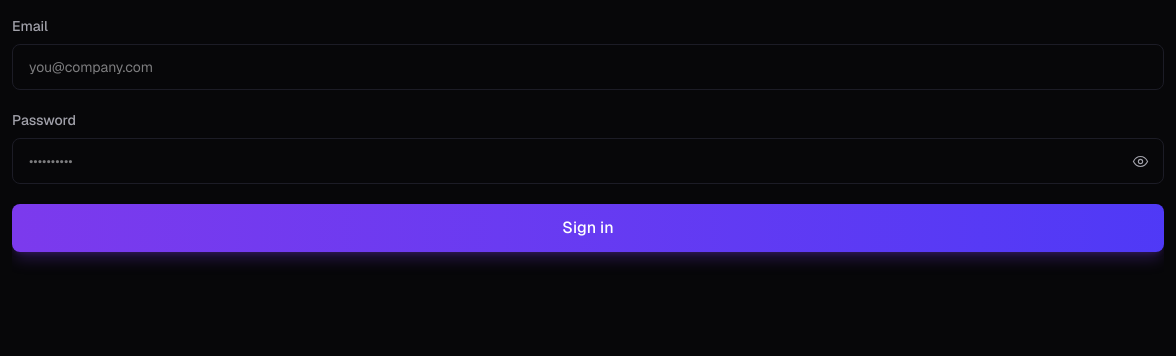
it: LoginForm › announces a failed login via an alert
The width and height of the screenshot is (1176, 356).
In the field labelled "Email": (588, 67) left=12, top=44, right=1164, bottom=90, type "a@b.test"
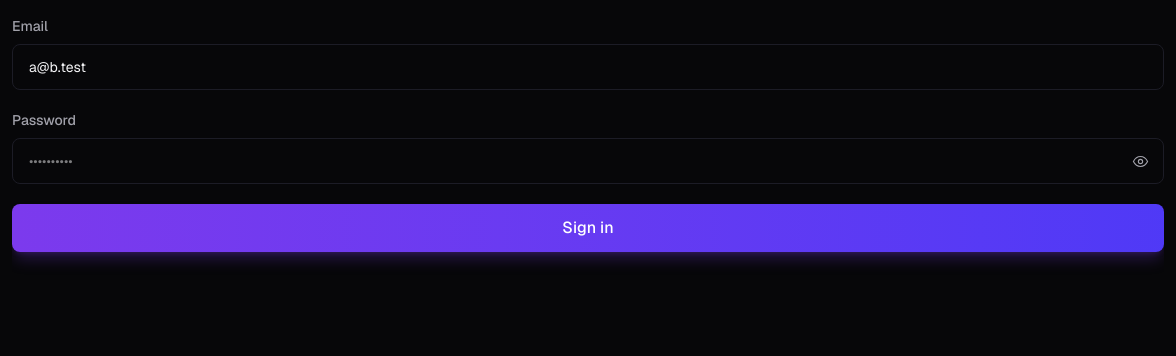
In the password field labelled "Password": (588, 161) left=12, top=138, right=1164, bottom=184, type "secret"
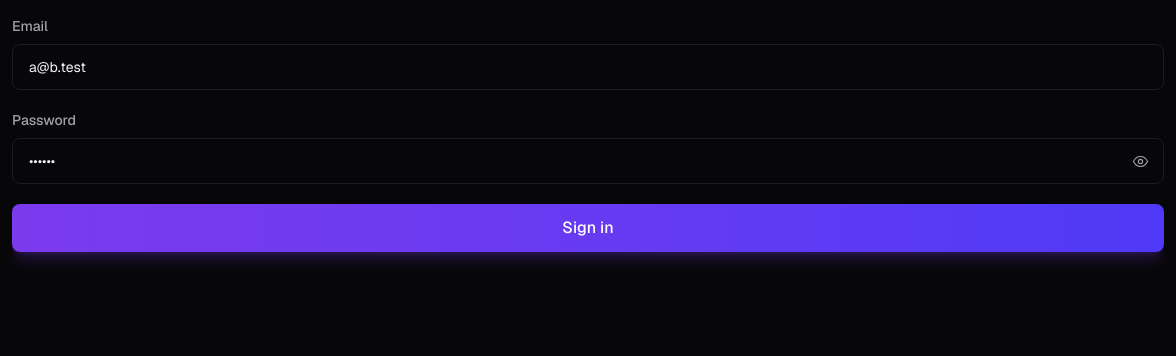
Click the button "Sign in": (588, 228) left=12, top=204, right=1164, bottom=252
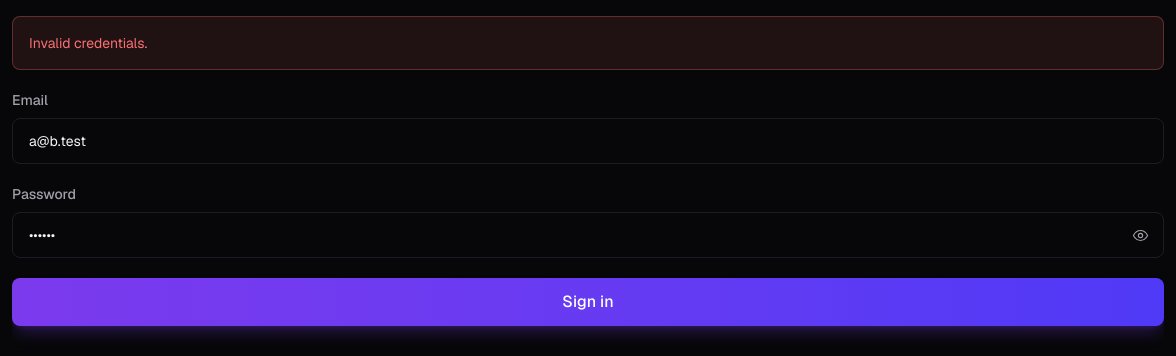
Expected: the message reads "Invalid credentials.", left=29, top=34, right=147, bottom=52
